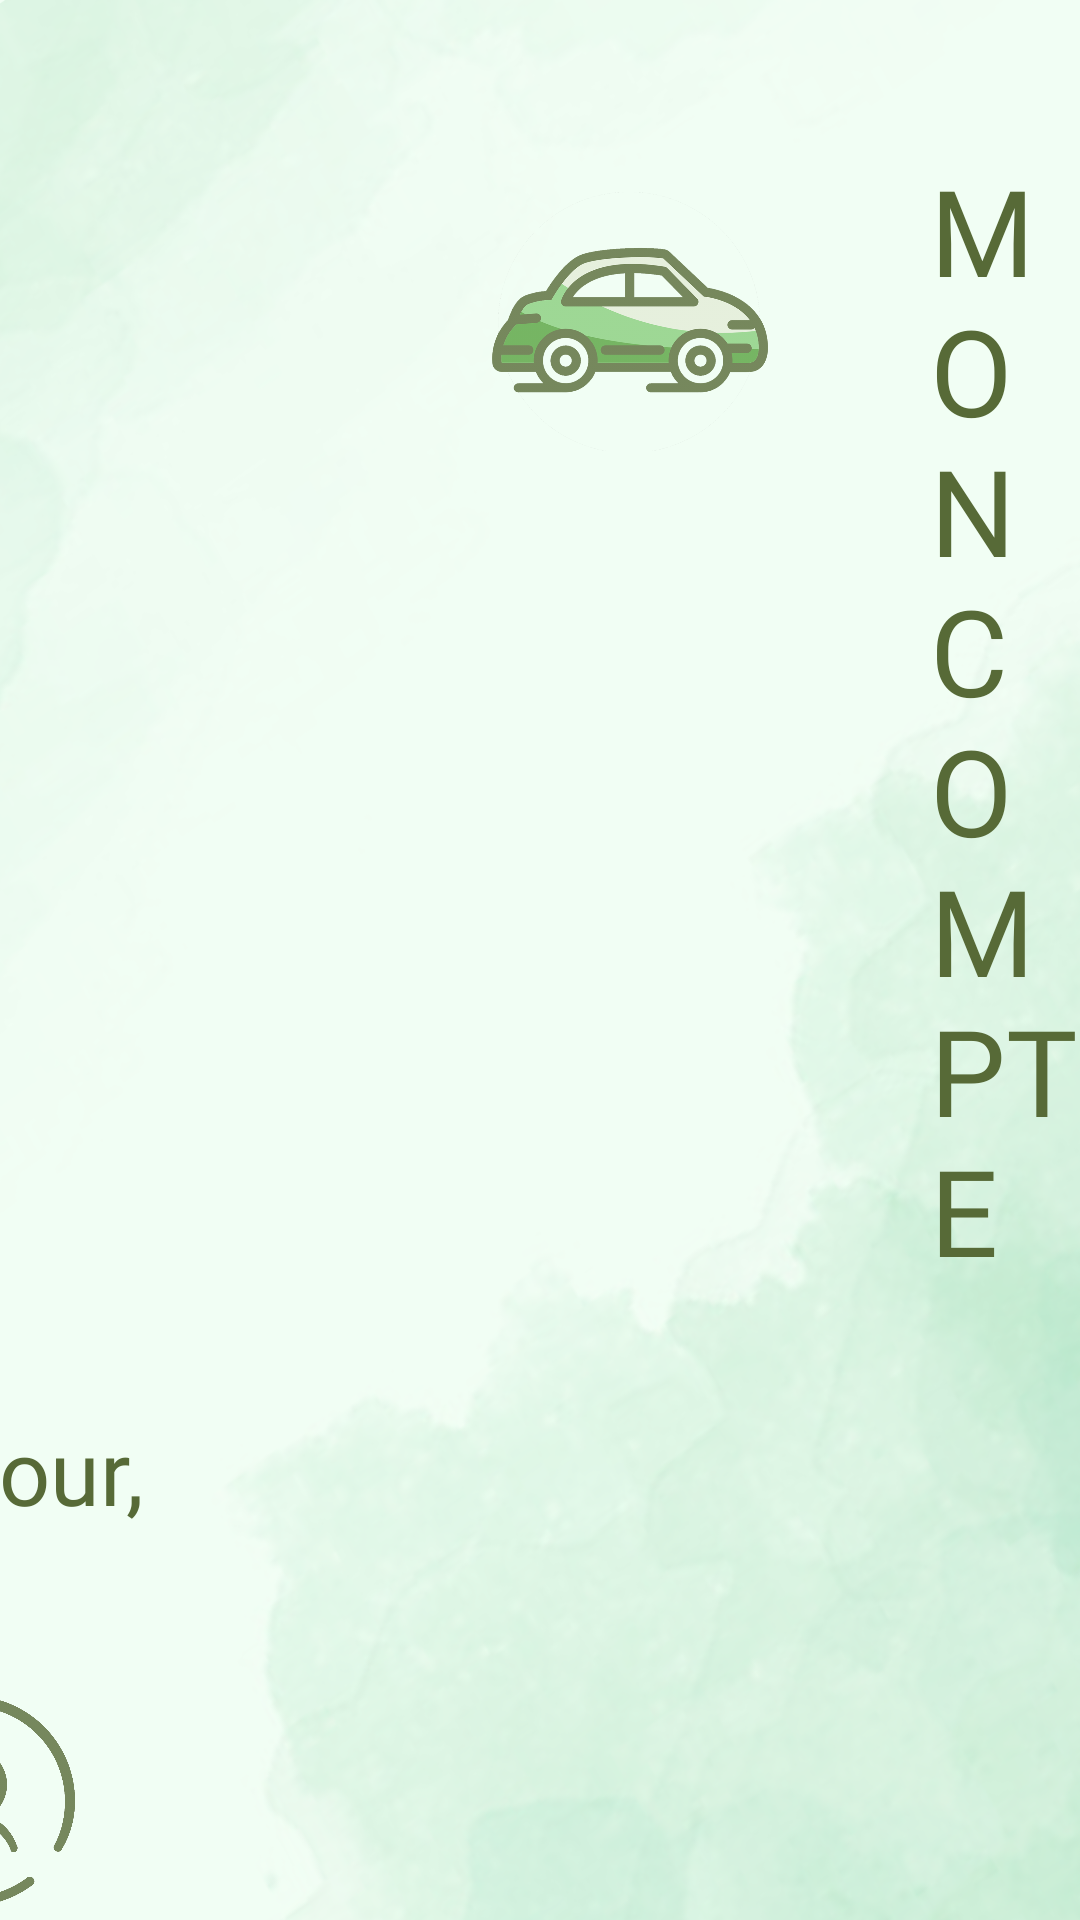

Locate icon controls on the screen. Image size 1080w x 1920h, boxes as (x1, y1, x2, y2).
voiture: (492, 248, 768, 393)
